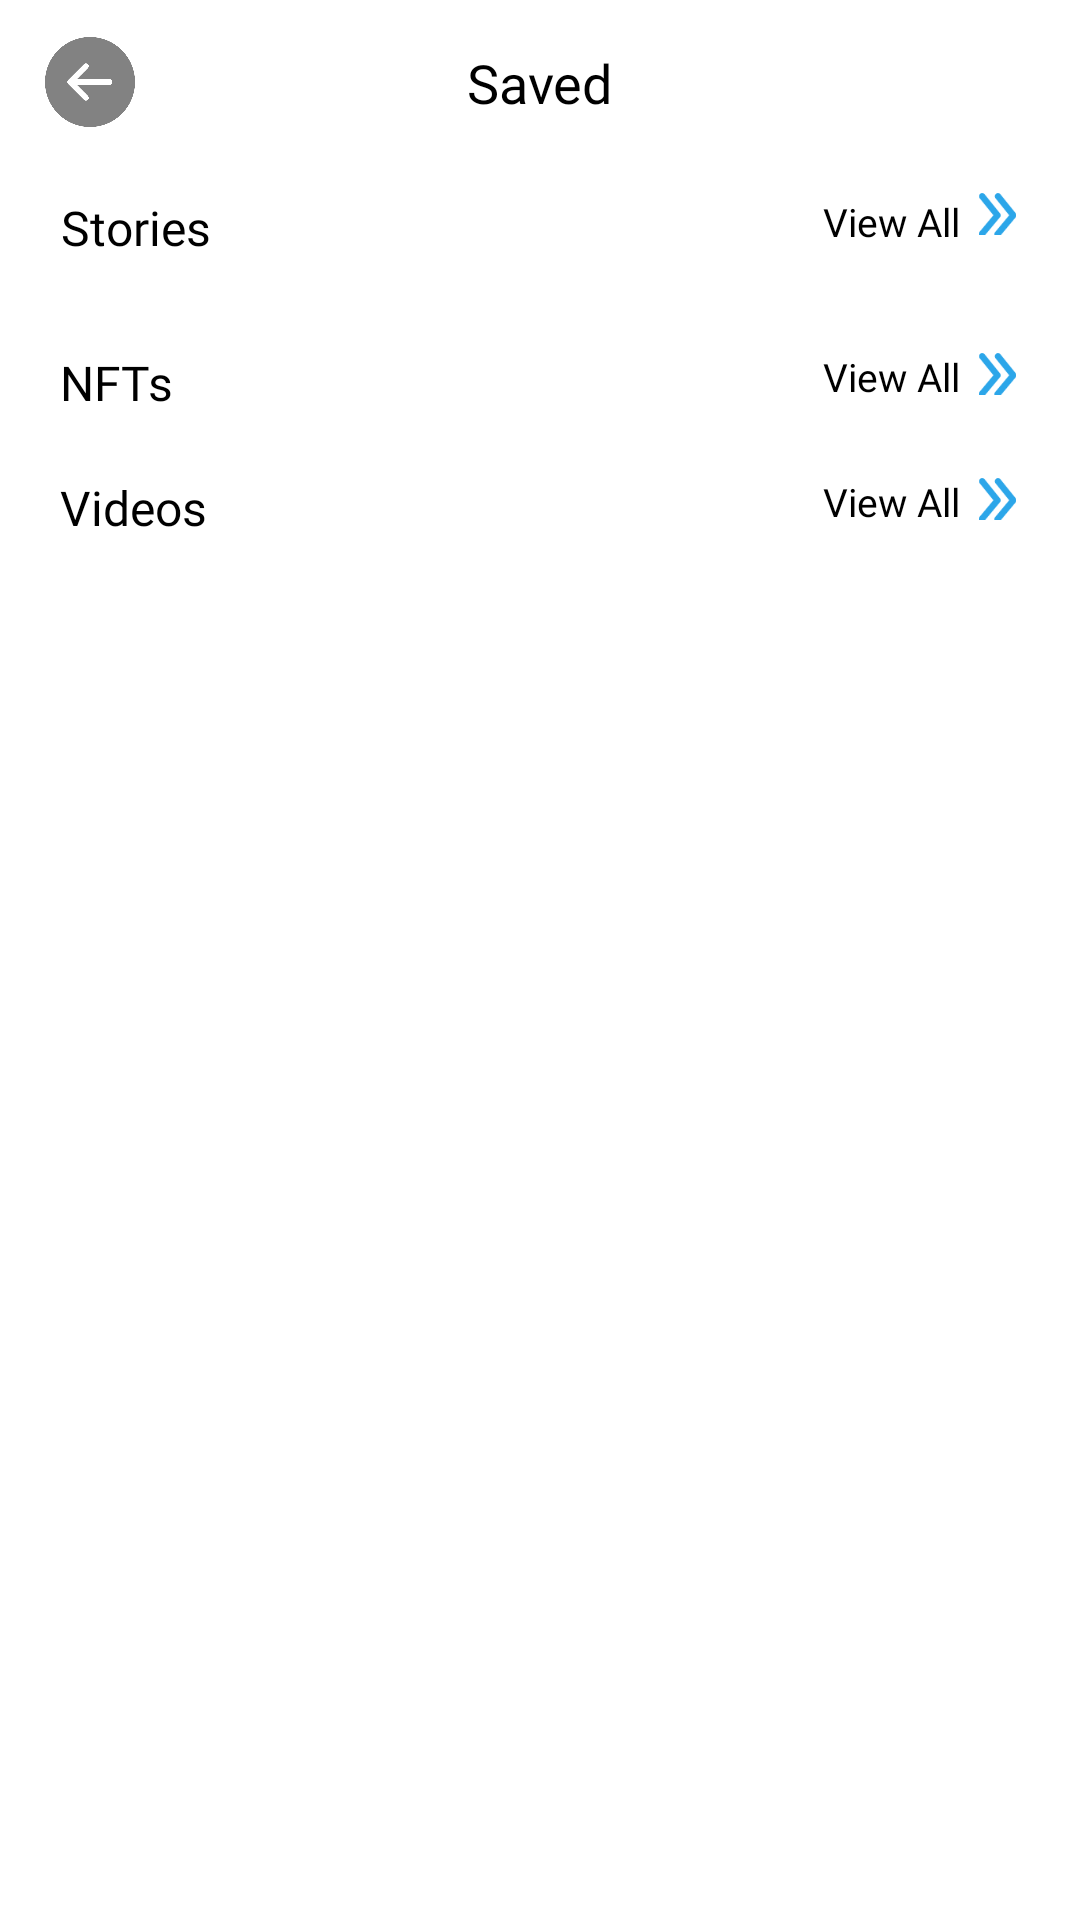

Point at icon controls on the screen. Image size 1080x1920, points as [x,y].
backk: [90,82]
bluearrow: [997,214], [997,374], [997,499]
